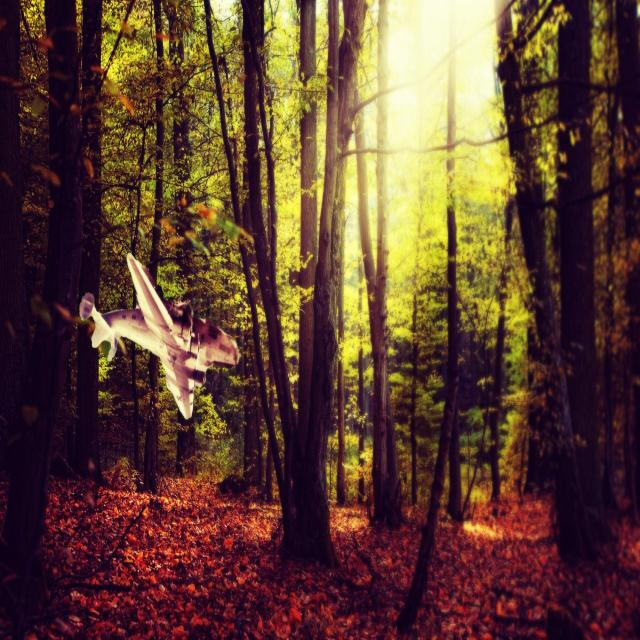airplane: (78, 250, 240, 420)
